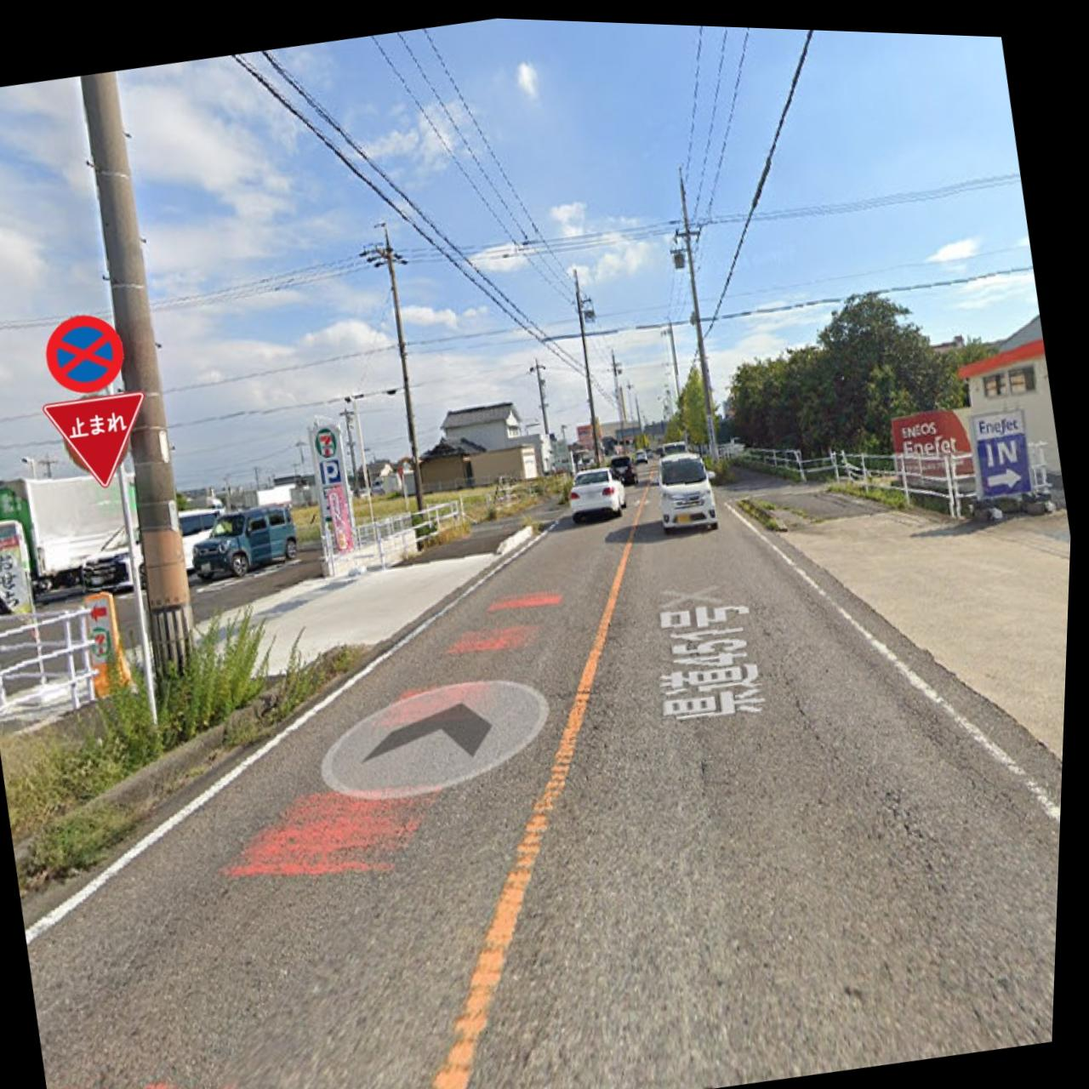stop_sign: (39, 305, 133, 401)
